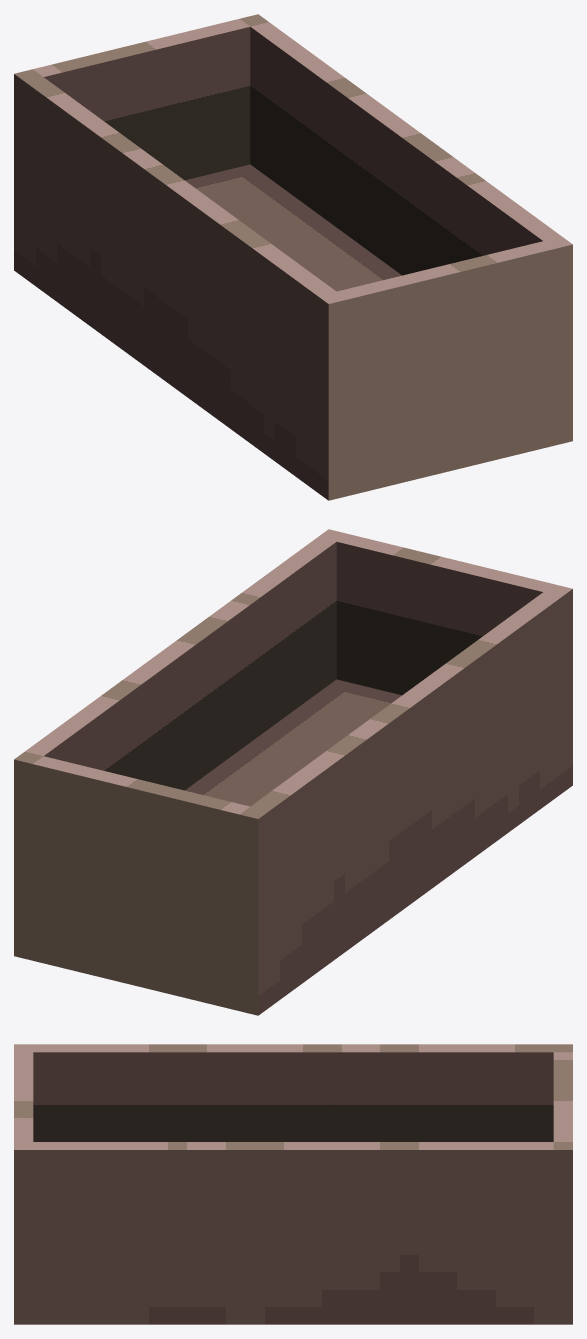
The model's file is water_trough_719x00.obj.
3 views of the same model, one above another, from view 1: azimuth 30°, elevation 25°; view 2: azimuth 150°, elevation 25°; view 3: azimuth 270°, elevation 25° (orthographic). The views are drawn at different scales.
Parts seen in each view (by area): view 1: cuboid; view 2: cuboid; view 3: cuboid.
Part boxes in pixels (box(x1,y1,x2,y2)): cuboid: box(14, 14, 572, 500); cuboid: box(14, 529, 572, 1015); cuboid: box(14, 1044, 572, 1324).
Bounding box in the file's own units: 0.8125 × 0.625 × 1.81.
